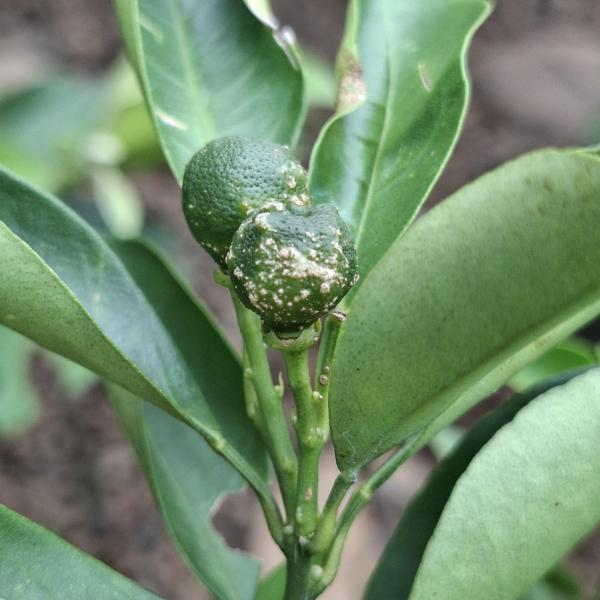Scab: (180, 129, 314, 273), (217, 198, 365, 327)
